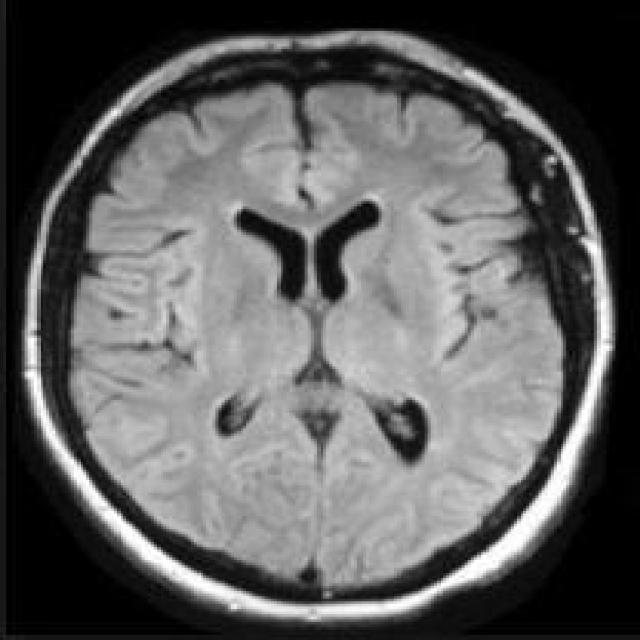notumor: (25, 36, 615, 627)
